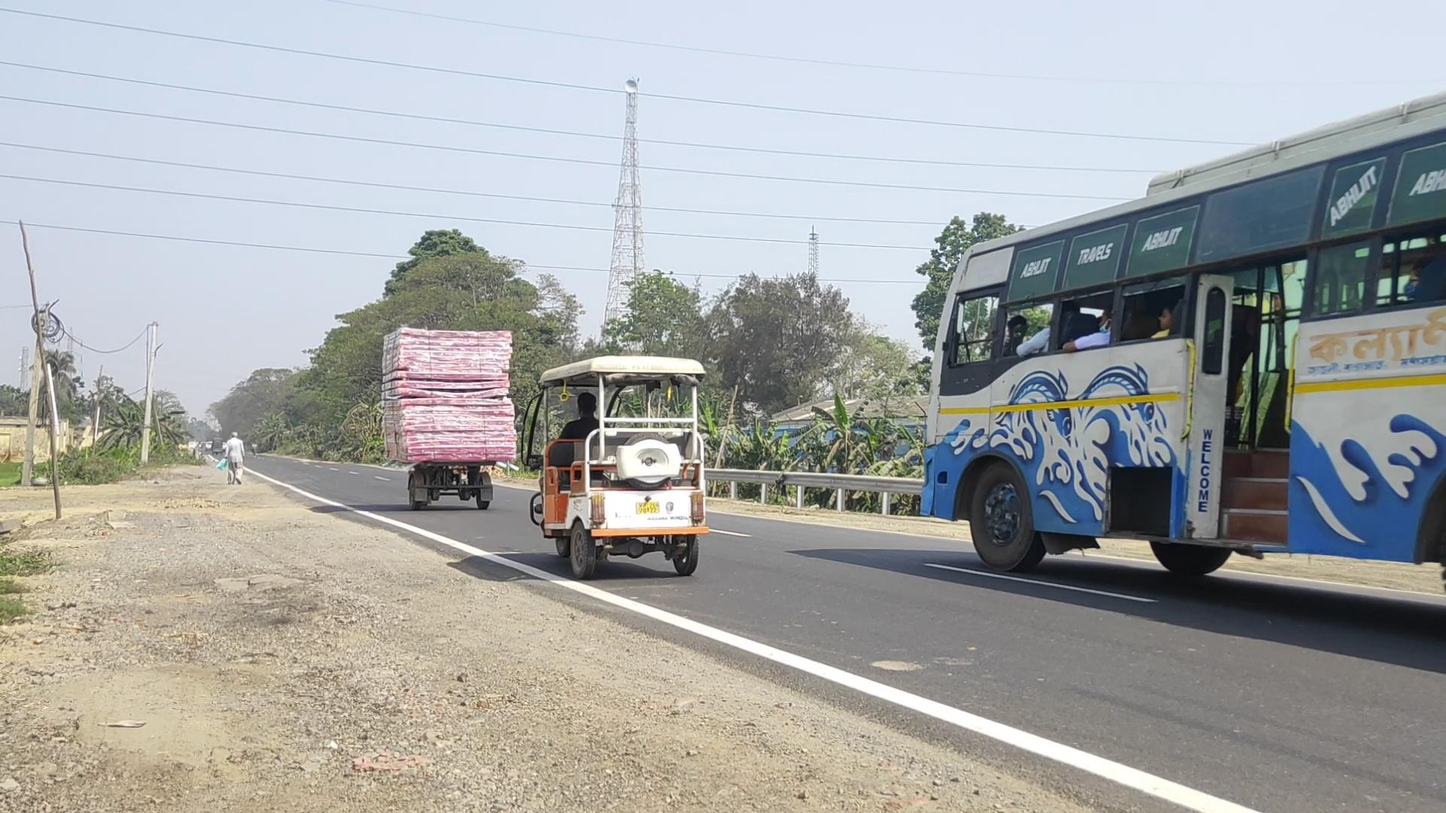Auto: (520, 355, 709, 580), (382, 327, 517, 511)
Bus: (919, 93, 1446, 607)
